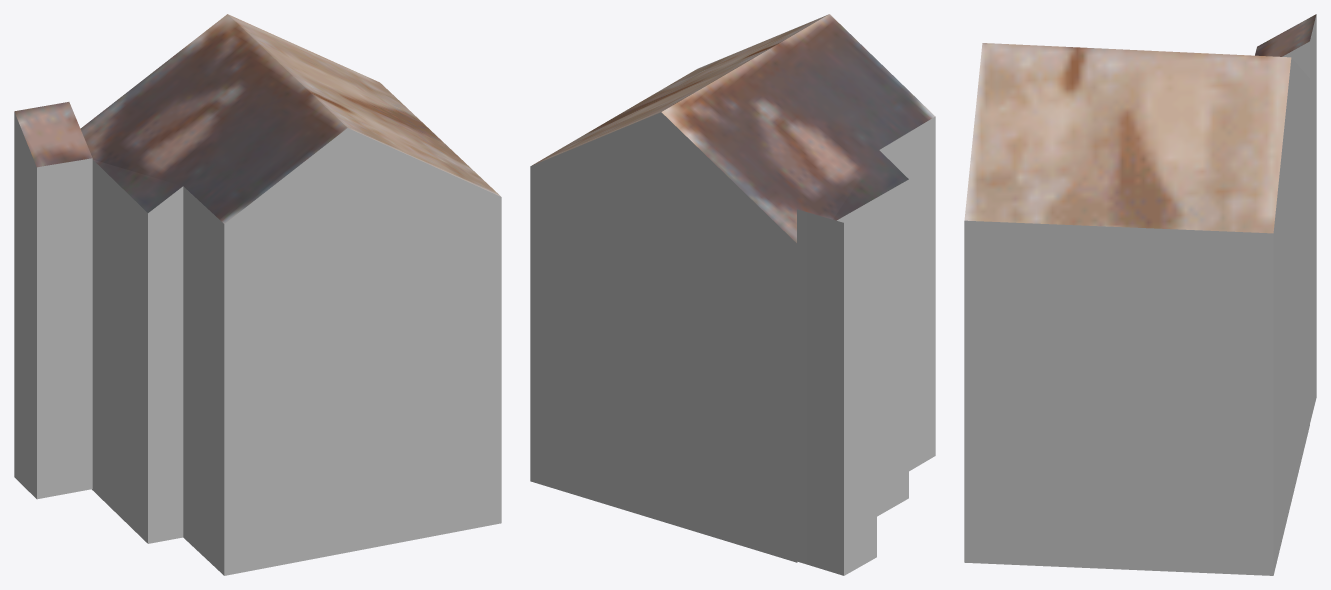
Rendered from DEBW_0010007Txgl.gltf.
The picture shows the model from 3 angles, left to right: view 1: azimuth 30°, elevation 25°; view 2: azimuth 150°, elevation 25°; view 3: azimuth 270°, elevation 25°; orthographic projection. The views are drawn at different scales.
Visible parts, largest first — view 1: Z_UP; view 2: Z_UP; view 3: Z_UP.
Part boxes in pixels (left/top/right/bottom): Z_UP: left=14, top=14, right=501, bottom=575; Z_UP: left=530, top=14, right=935, bottom=575; Z_UP: left=964, top=14, right=1316, bottom=575.
Bounding box in the file's own units: 15.95 × 18.43 × 13.2.
Materials: 2 (1 with a texture image).
